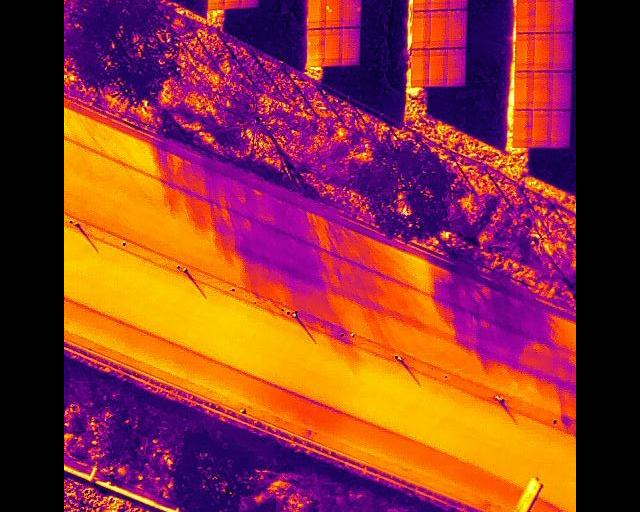Cell: (307, 27, 325, 66), (345, 0, 361, 27), (431, 0, 449, 8)
Cell-Multi: (326, 0, 345, 27)
No-Anomaly: (534, 32, 554, 70), (447, 47, 466, 86), (413, 10, 432, 48), (515, 71, 534, 109), (534, 71, 553, 109), (551, 109, 570, 146), (325, 27, 343, 66), (448, 8, 466, 47), (430, 48, 448, 86), (553, 71, 571, 109), (554, 32, 572, 70), (515, 108, 533, 146), (412, 49, 430, 86), (532, 109, 550, 146), (517, 31, 534, 70), (343, 27, 360, 65), (431, 8, 447, 48), (554, 0, 573, 32), (518, 0, 537, 32), (537, 0, 554, 32), (308, 0, 325, 29), (414, 0, 431, 9), (449, 0, 467, 8), (242, 0, 259, 8), (208, 0, 225, 8), (226, 0, 242, 8)
